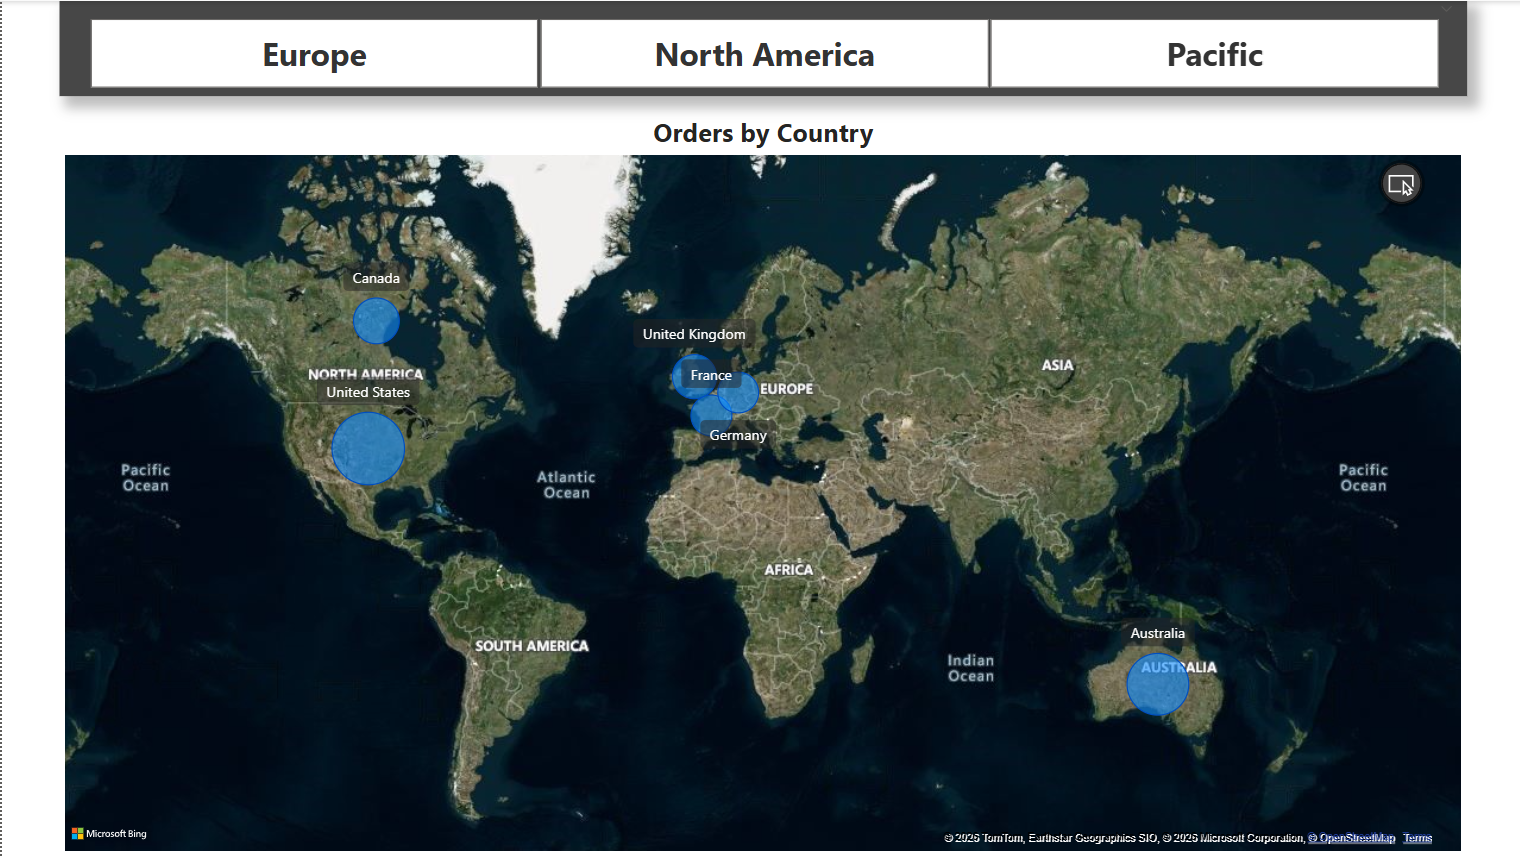

The page's visual inventory and layout, read from the dashboard file:
{"tool":"powerbi","page":{"name":"Map","canvas":[1280,720],"ordinal":1},"visuals":[{"type":"map","title":"Orders by Country","fields":{"Size":["Table Measure.Total Orders"],"Category":["Territory Lookup.Country"]},"box":[48,96,1184,624],"z":0},{"type":"slicer","fields":{"Values":["Territory Lookup.Continent"]},"box":[48,0,1184,80],"z":1000}]}

Visuals, with their boxes in screenshot pixels (x1, y1, x2, y2), scaled from the page's 1280x720 canvas onto the 1520x857 screenshot:
"Orders by Country" map: <bbox>57, 114, 1463, 856</bbox>
slicer - Territory Lookup.Continent: <bbox>57, 0, 1463, 95</bbox>
